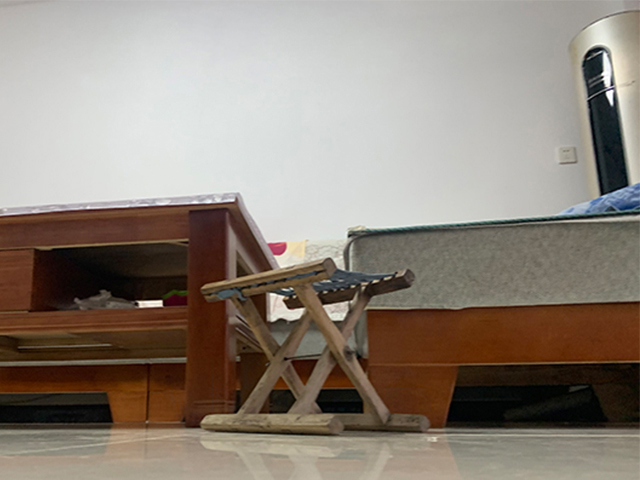sofa: (344, 183, 640, 428)
stool: (200, 258, 430, 437)
table: (1, 192, 279, 429)
